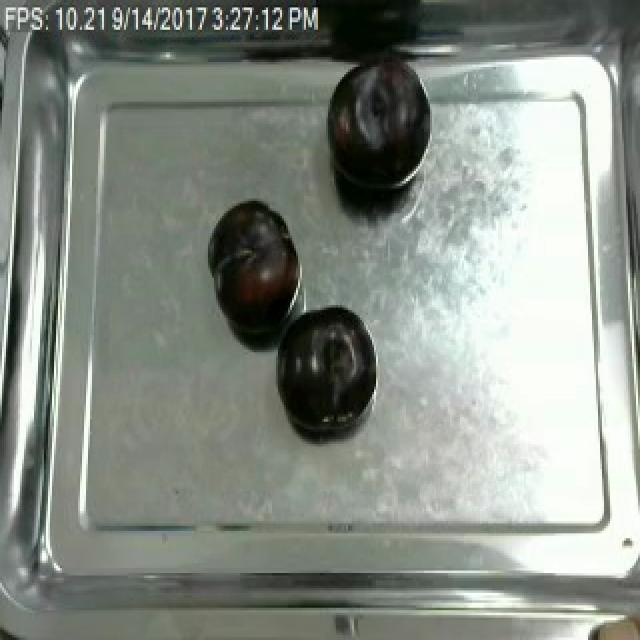Fruit: (322, 57, 432, 201), (270, 303, 374, 434), (206, 198, 302, 338), (580, 605, 640, 640)
